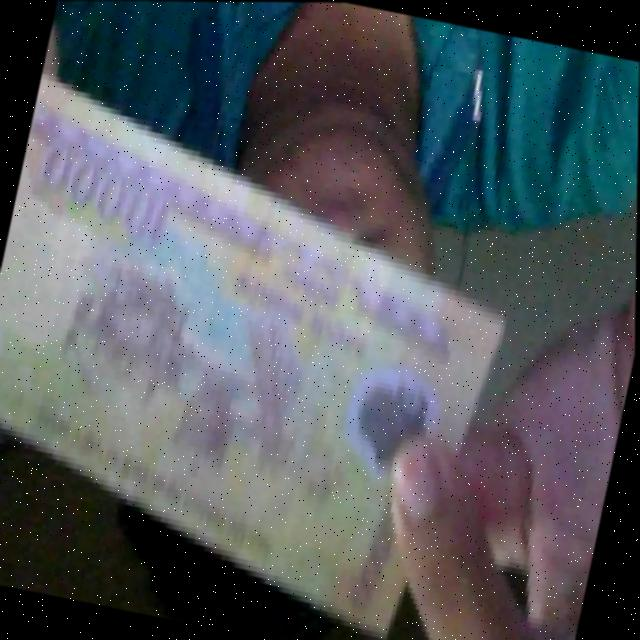10 000 VND: (0, 62, 547, 640)
